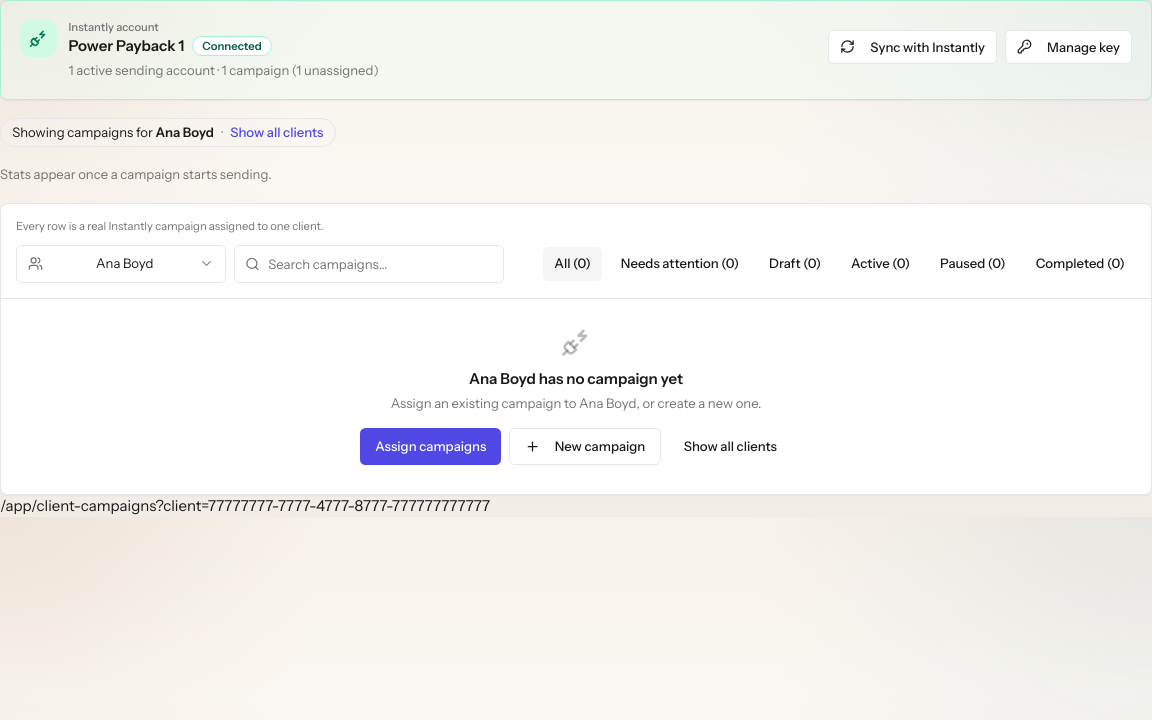
Test: WorkspaceCampaigns › offers to assign or create for a working client with no campaign yet
This screenshot has width=1152, height=720.
Check: the heading "Ana Boyd has no campaign yet" is shown, box [469,368,683,390]
Click the button "Assign campaigns".
click(431, 447)  # box [360,428,501,465]
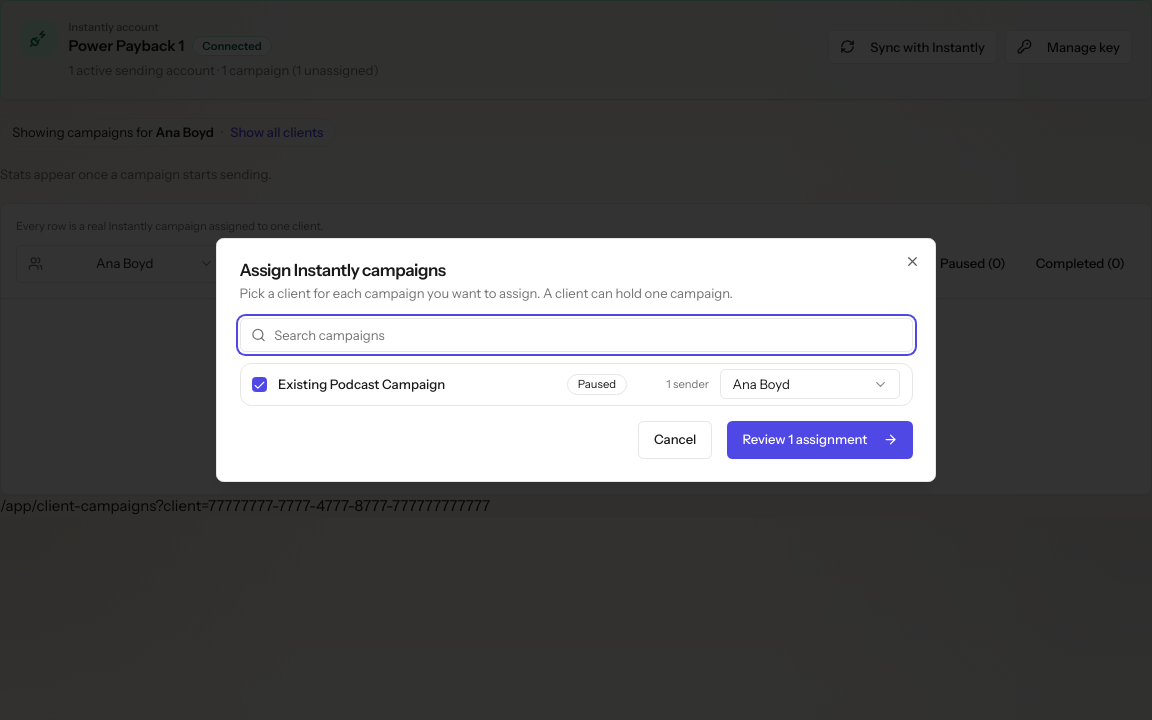
Check: the button "Review 1 assignment" is enabled, box [727,421,912,458]
